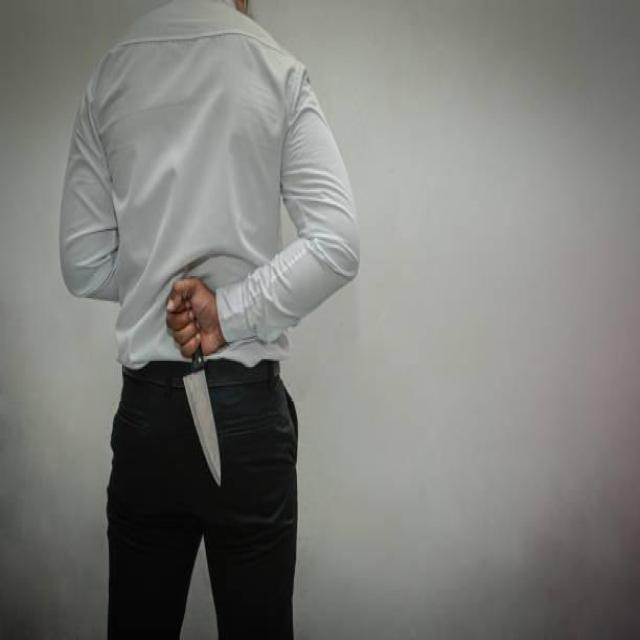faca: (161, 265, 230, 491)
